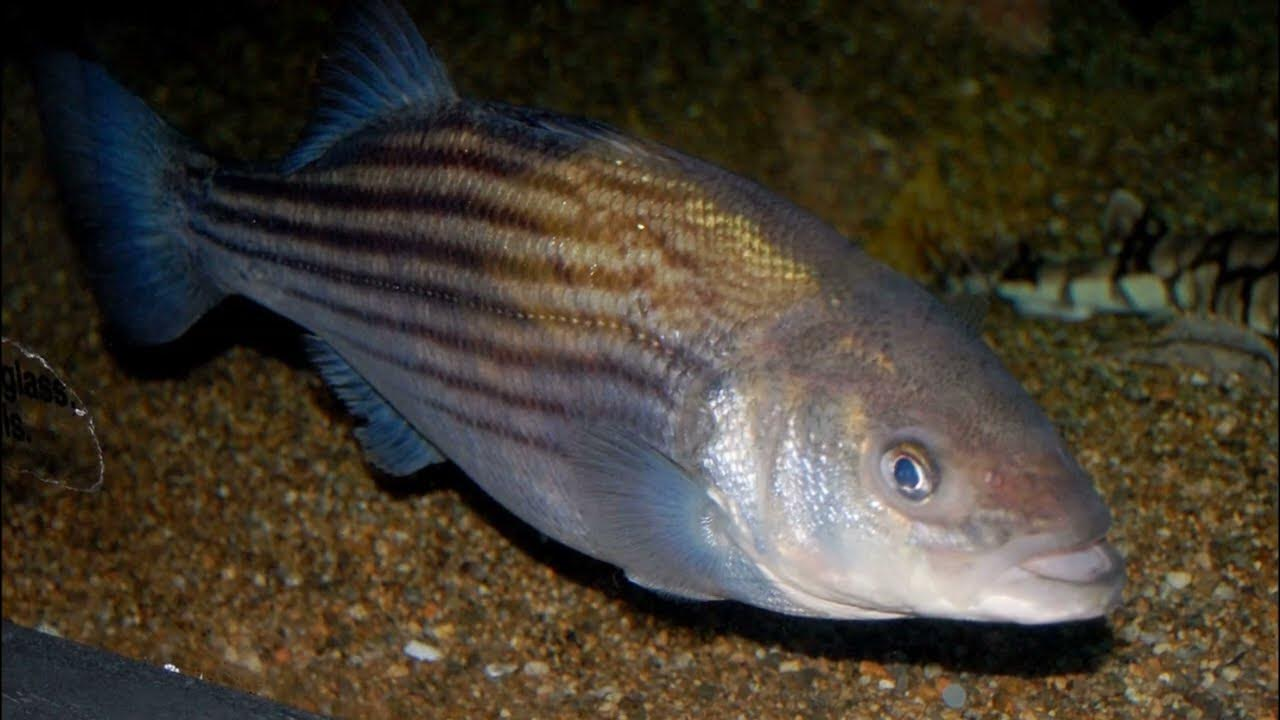Striped Bass: (32, 35, 1156, 679)
